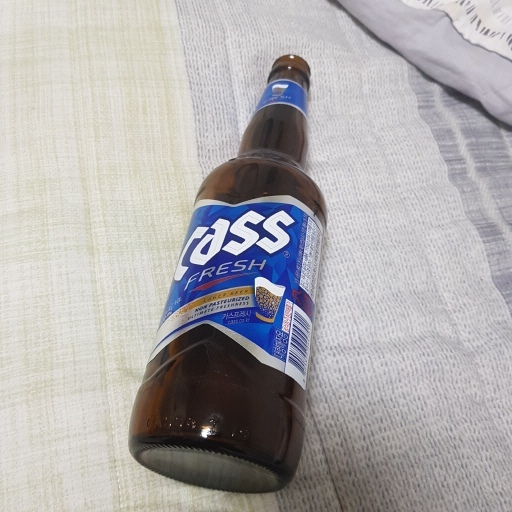Glass_1: (131, 52, 328, 494)
